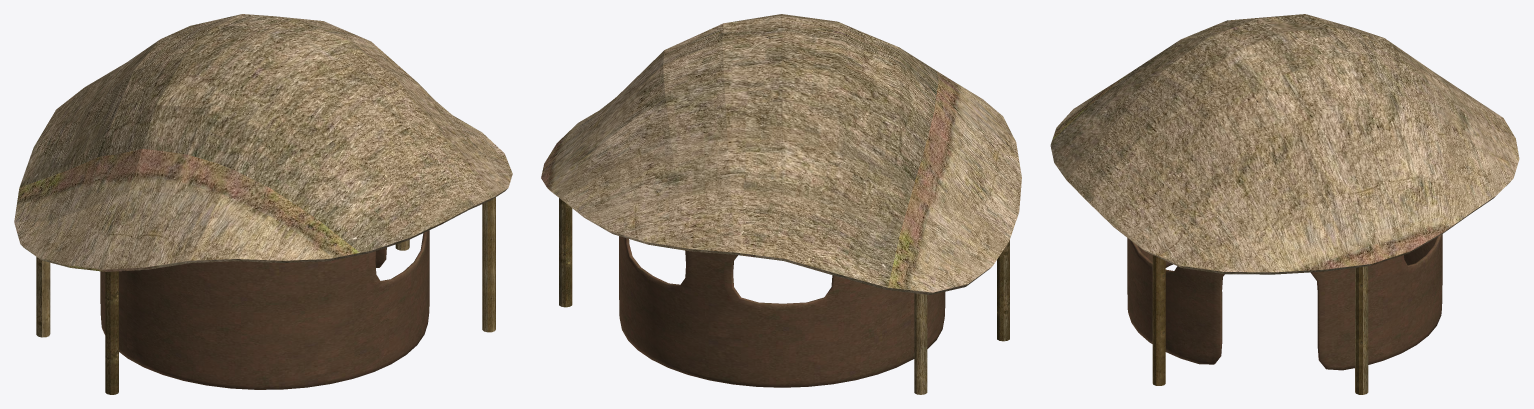
Rendered from HousePrincipal.glb.
The picture shows the model from 3 angles, left to right: view 1: azimuth 30°, elevation 25°; view 2: azimuth 150°, elevation 25°; view 3: azimuth 270°, elevation 25°; orthographic projection. The views are drawn at different scales.
Parts seen in each view (by area): view 1: HousePrincipal; view 2: HousePrincipal; view 3: HousePrincipal.
Boxes of the visible parts, left/top/right/bottom form: HousePrincipal: left=14, top=14, right=512, bottom=394; HousePrincipal: left=541, top=14, right=1021, bottom=394; HousePrincipal: left=1050, top=14, right=1519, bottom=394.
Size of the model in its own units: 4.47 by 2.86 by 4.39.
3 materials, 3 textured.
